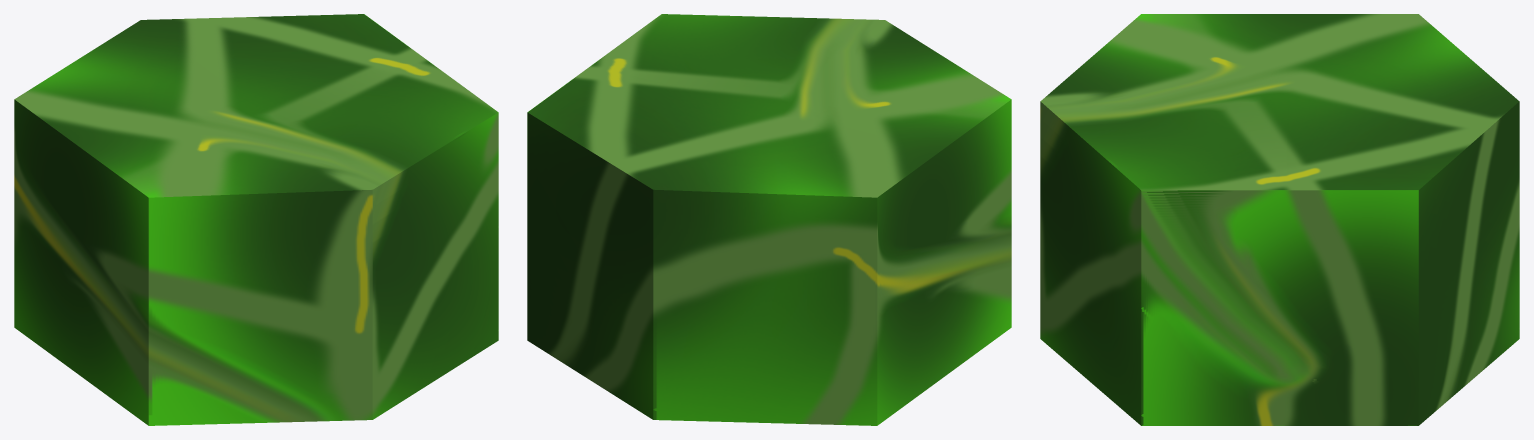
Rendered from tile_leaf.gltf.
The picture shows the model from 3 angles, left to right: view 1: azimuth 30°, elevation 25°; view 2: azimuth 150°, elevation 25°; view 3: azimuth 270°, elevation 25°; orthographic projection. The views are drawn at different scales.
Visible parts, largest first — view 1: teil_feuille_1; view 2: teil_feuille_1; view 3: teil_feuille_1.
Boxes of the visible parts, x1,y1,x2,y2 form: teil_feuille_1: [14, 14, 498, 425]; teil_feuille_1: [527, 14, 1011, 425]; teil_feuille_1: [1040, 14, 1519, 425].
Bounding box in the file's own units: 1.6 × 1.01 × 1.84.
Materials: 1 (1 with a texture image).
